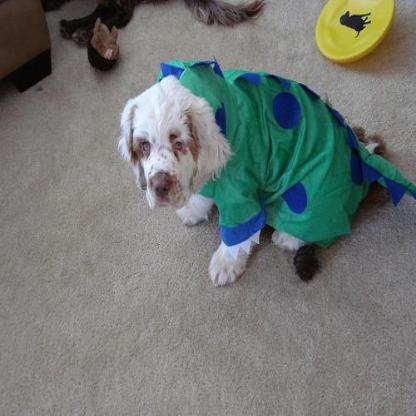clumber: (116, 54, 414, 286), (58, 0, 264, 43)
